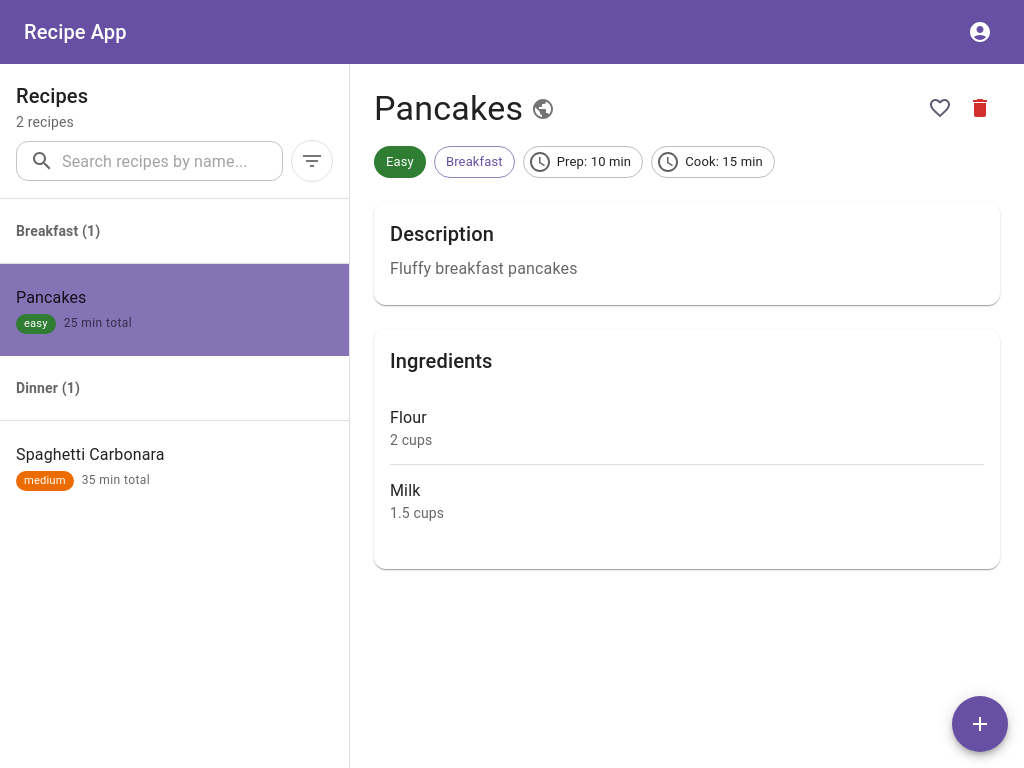
Test: App › Adding Recipes › adds recipe to list after successful creation
Expected: the text "2 recipes" is shown, x1=16 y1=114 x2=74 y2=130
// Open modal and fill form
Click the button named "add": (980, 724) x1=952 y1=696 x2=1008 y2=752
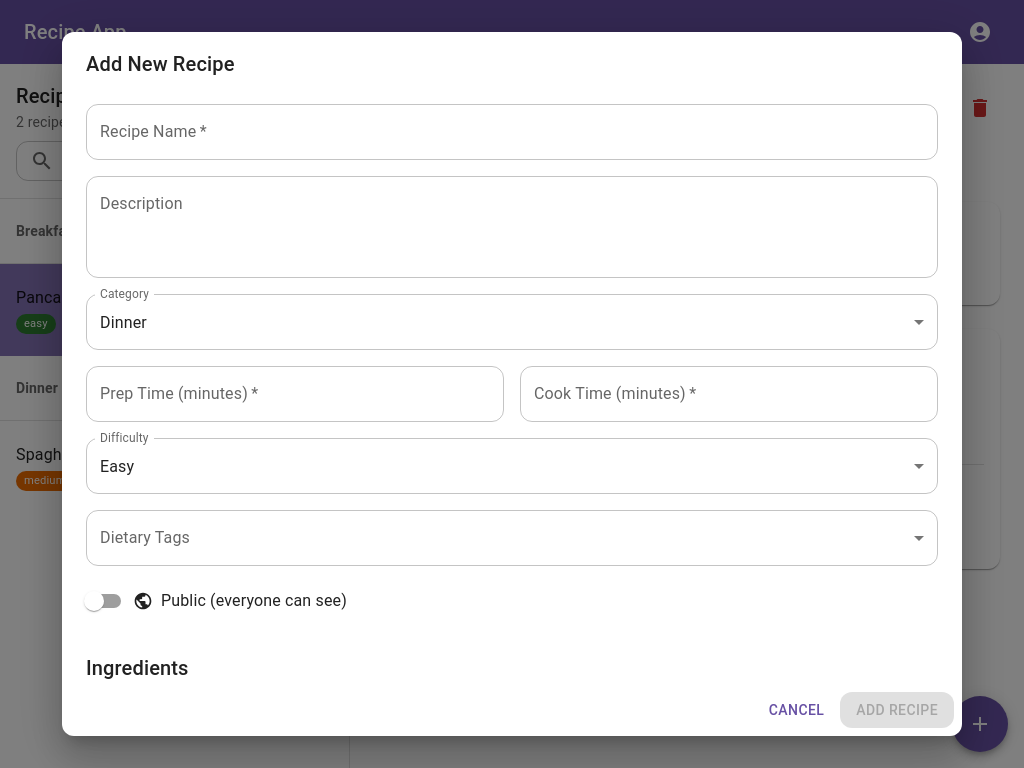
Expected: the field labelled "Recipe Name *" is shown
In the field labelled "Recipe Name *": (512, 132) x1=86 y1=104 x2=938 y2=160, type "Chocolate Cake"
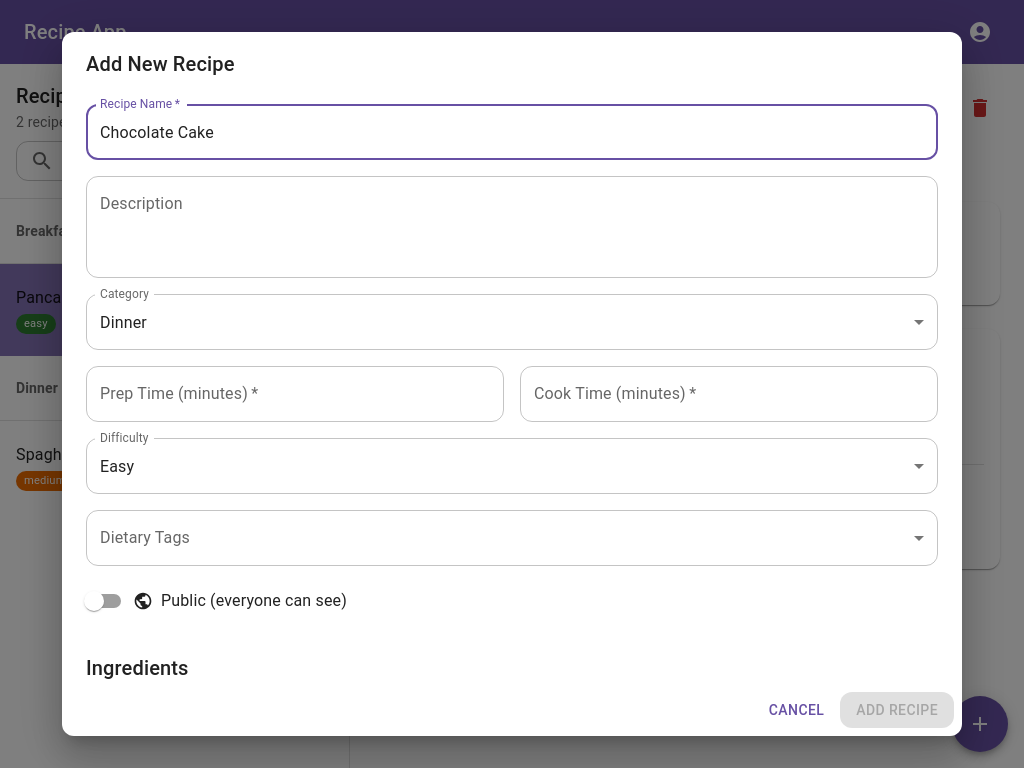
In the number field labelled "Prep Time (minutes) *": (295, 394) x1=86 y1=366 x2=504 y2=422, type "30"
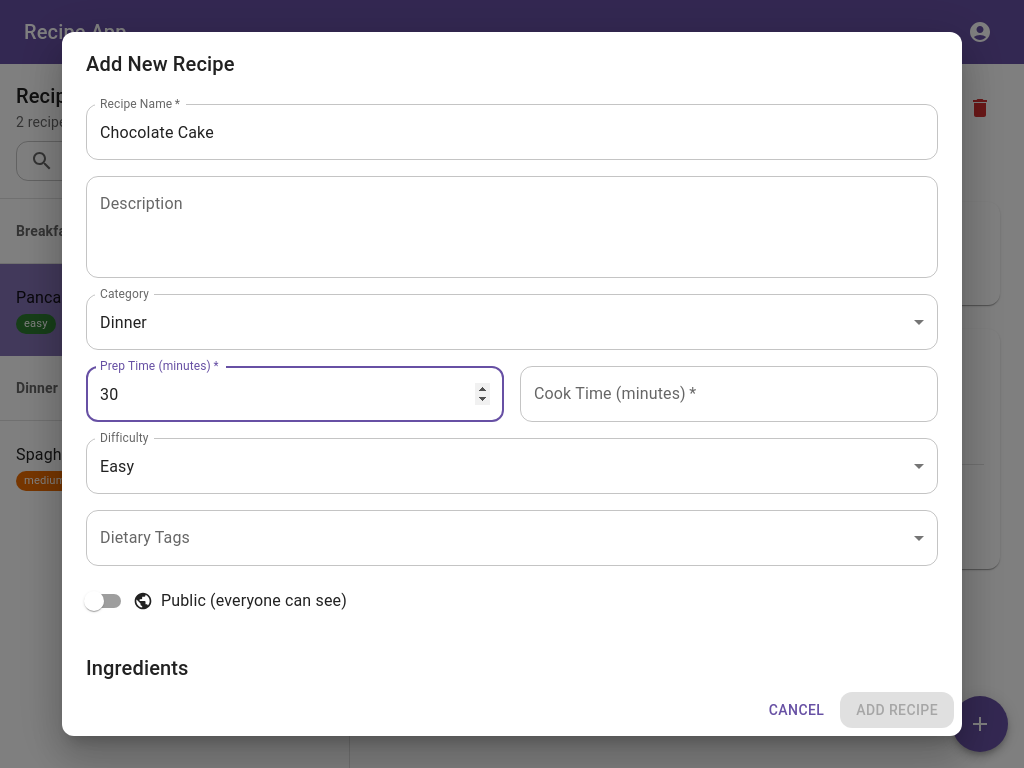
In the number field labelled "Cook Time (minutes) *": (729, 394) x1=520 y1=366 x2=938 y2=422, type "45"
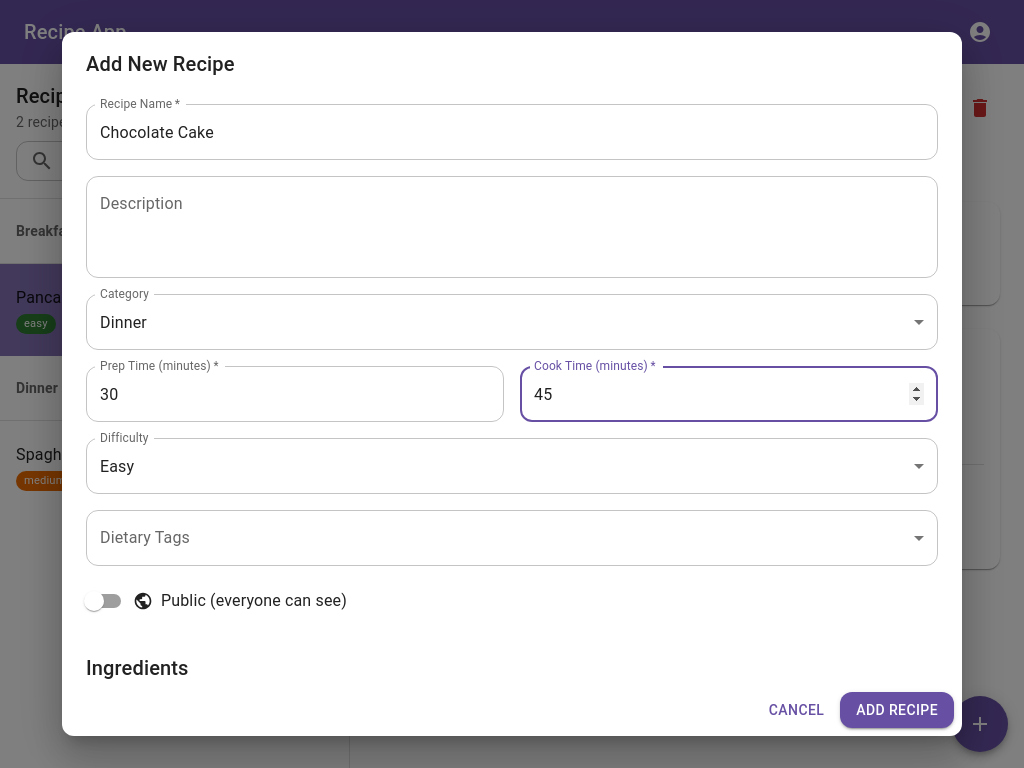
Click the button "Add Recipe": (897, 710) x1=840 y1=692 x2=954 y2=728
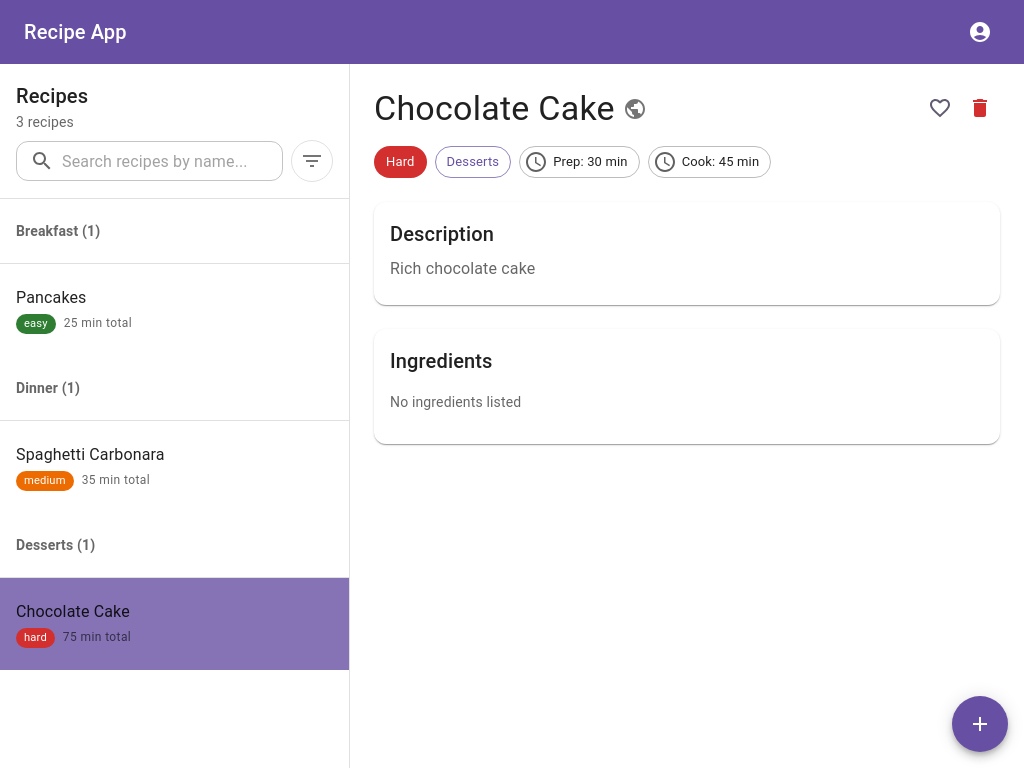
Expected: the text "Chocolate Cake" is shown, x1=16 y1=602 x2=130 y2=621
Expected: the text "3 recipes" is shown, x1=16 y1=114 x2=74 y2=130
